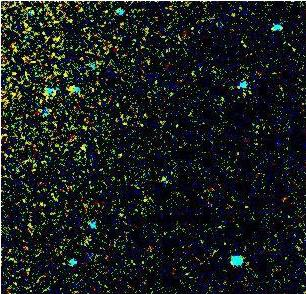star: (50, 57, 80, 87)
